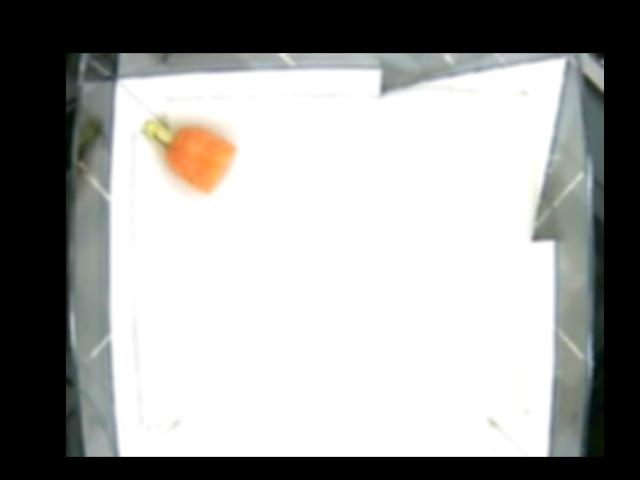Carrot: (140, 116, 234, 196)
